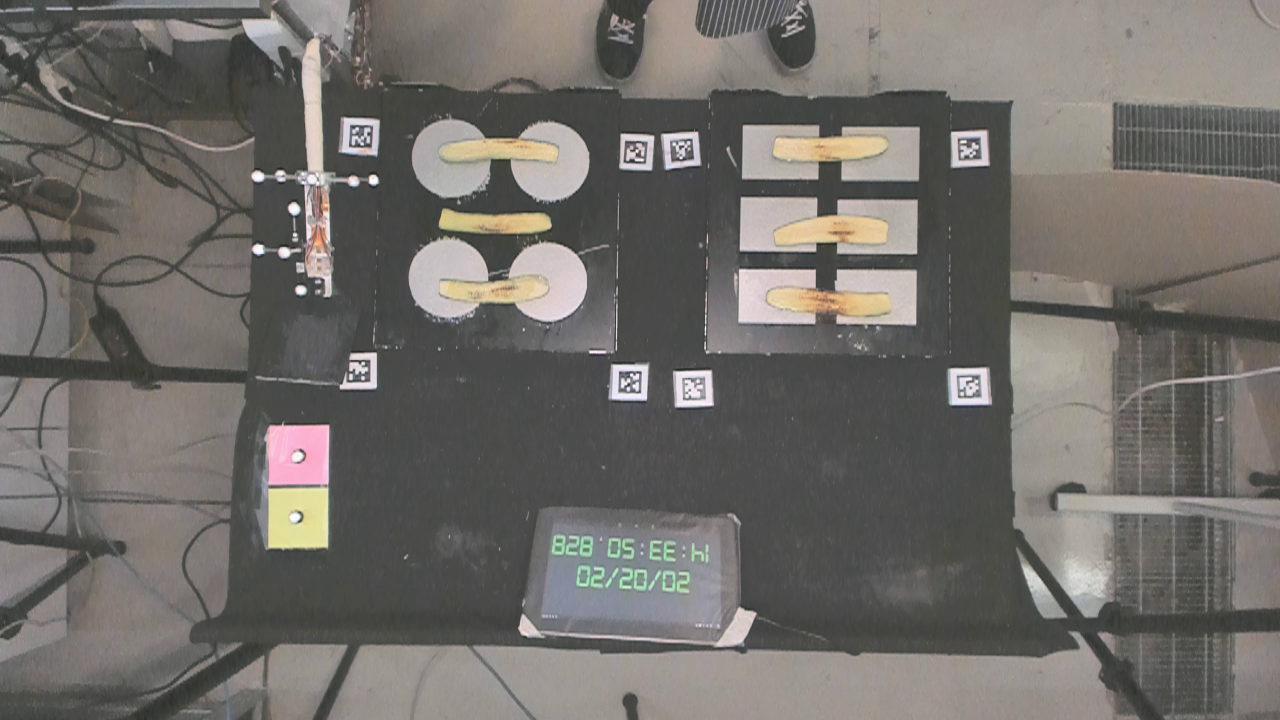marker: (268, 424, 329, 483)
zucchini: (764, 282, 896, 323), (434, 204, 557, 240), (767, 215, 891, 249), (770, 131, 892, 164), (440, 135, 561, 166), (436, 274, 550, 306)
